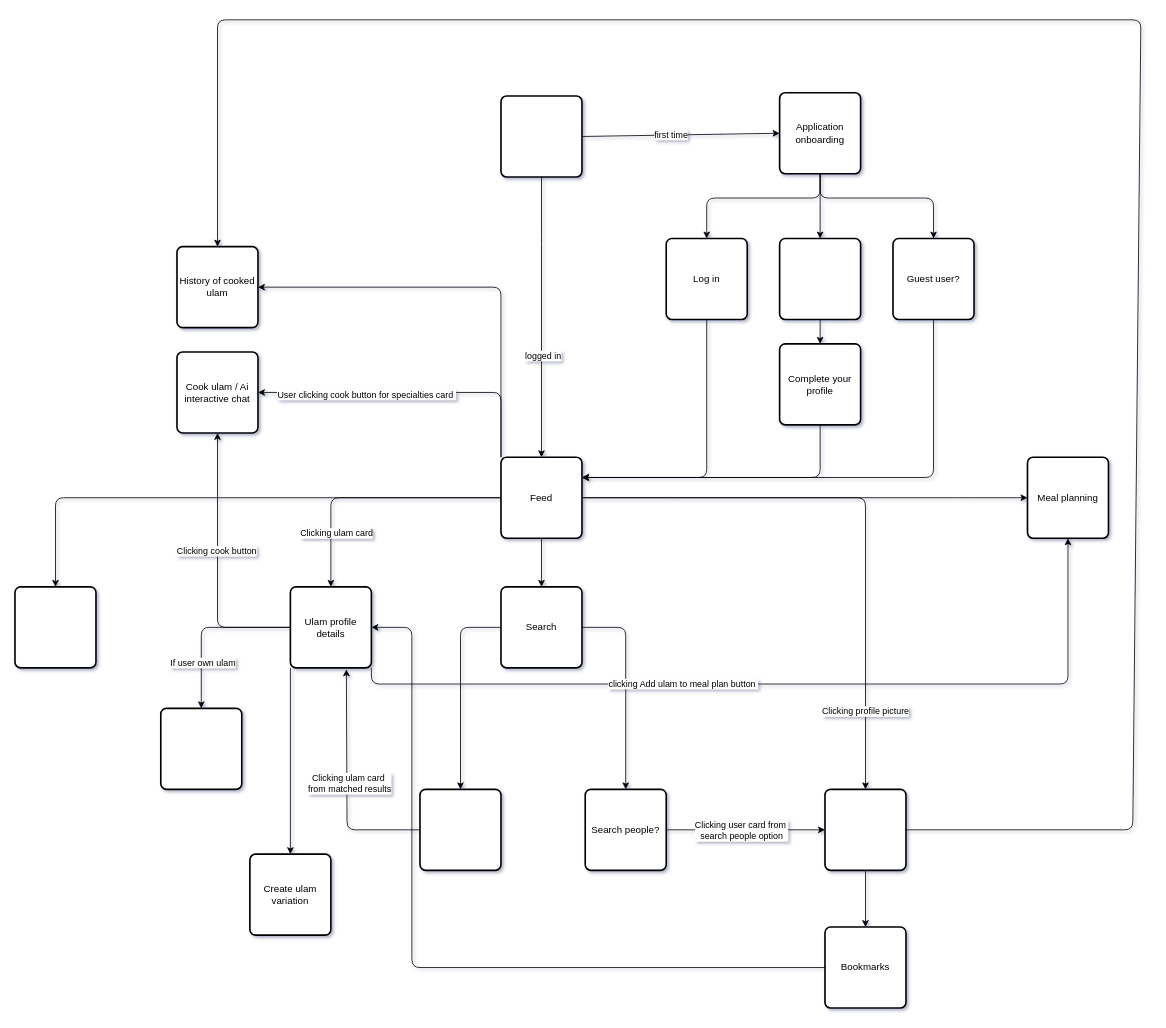
Image size: 1166x1028. Some labels were removed from this diagram. The shapes that lost their labels are listed below. From the top down, each one's centre as x and y in pixels, then its label:
the point at 541,136: Launch application
the point at 819,278: Sign up
the point at 55,627: Add ulam
the point at 201,748: Edit ulam
the point at 460,829: Search ulam?
the point at 865,829: User profile
